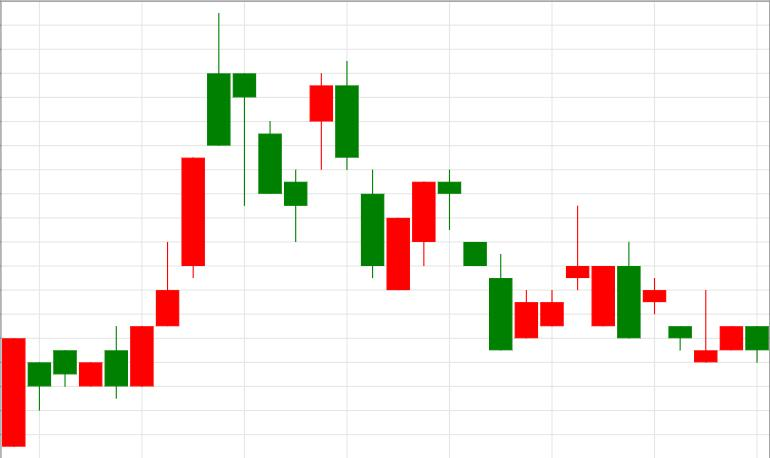hanging_man_fall: (130, 14, 256, 387)
